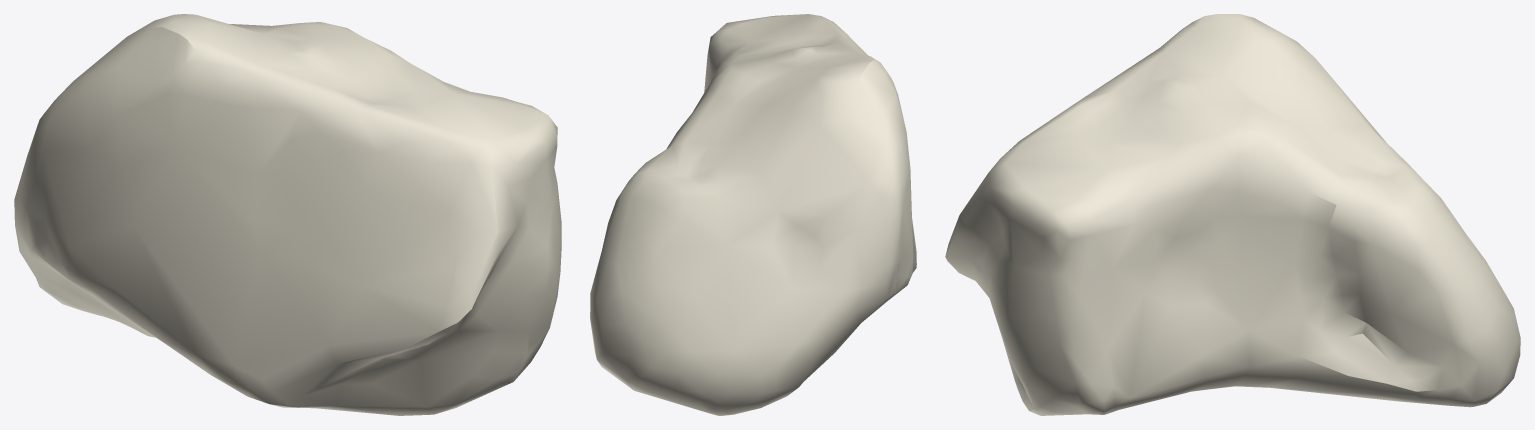
File: fma23725_mm1892.glb
The picture shows the model from 3 angles, left to right: view 1: azimuth 30°, elevation 25°; view 2: azimuth 150°, elevation 25°; view 3: azimuth 270°, elevation 25°; orthographic projection. The views are drawn at different scales.
Parts seen in each view (by area): view 1: FMA23725_MM1892; view 2: FMA23725_MM1892; view 3: FMA23725_MM1892.
Boxes of the visible parts, bbox=[...] form: FMA23725_MM1892: bbox=[14, 14, 561, 415]; FMA23725_MM1892: bbox=[590, 14, 916, 415]; FMA23725_MM1892: bbox=[945, 14, 1520, 415].
Bounding box in the file's own units: 0.0119 × 0.0108 × 0.0168.
